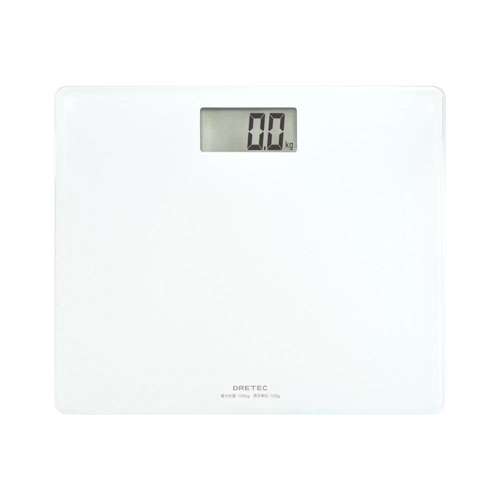LCD: (199, 107, 300, 153)
